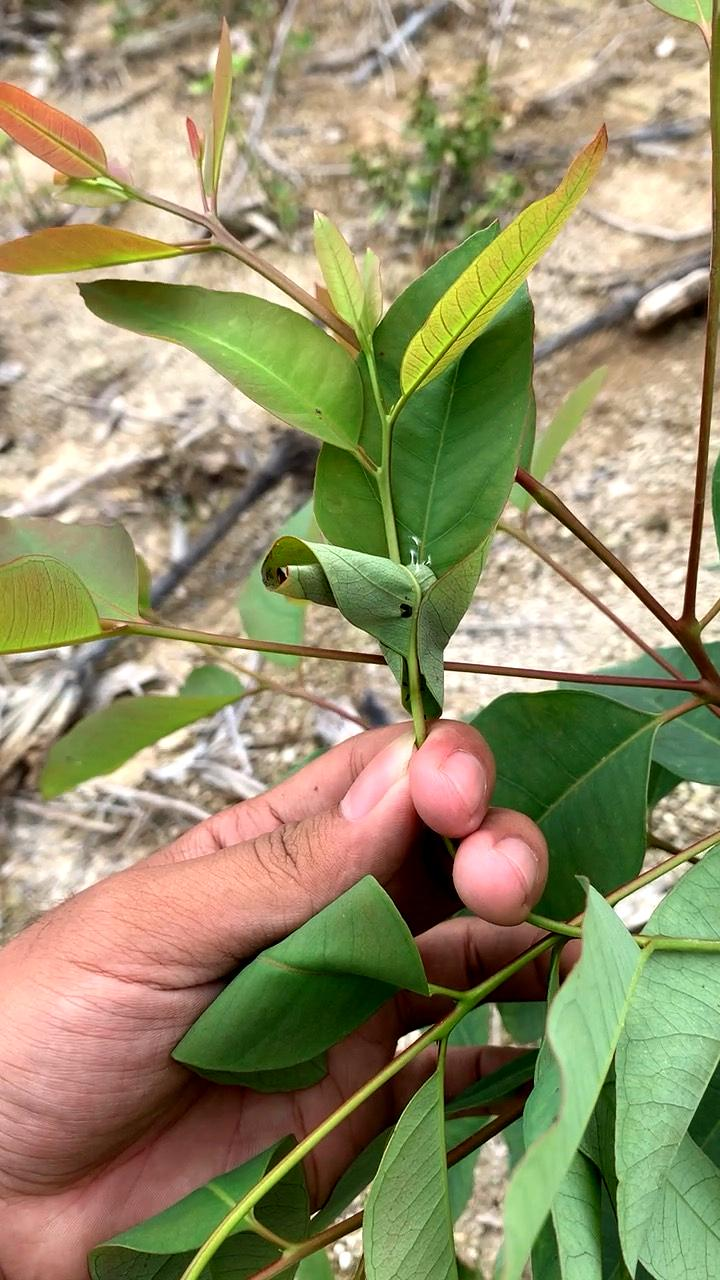Leaf Roller - Leaf: (235, 523, 495, 670)
